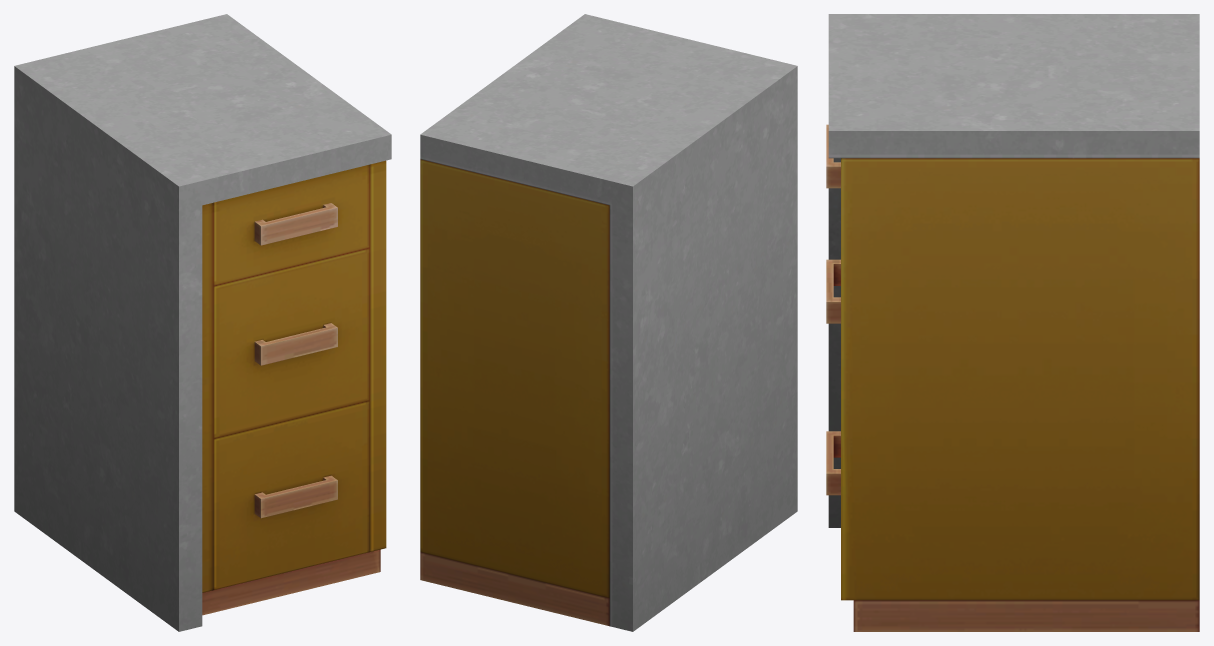
File: mueblePequeño.fbx
3 renders of one model, left to right at view 1: azimuth 30°, elevation 25°; view 2: azimuth 150°, elevation 25°; view 3: azimuth 270°, elevation 25°, orthographic. The views are drawn at different scales.
Visible parts, largest first — view 1: s4studio_mesh_1; view 2: s4studio_mesh_1; view 3: s4studio_mesh_1.
Boxes of the visible parts, x1,y1,x2,y2 form: s4studio_mesh_1: [14, 14, 391, 631]; s4studio_mesh_1: [420, 14, 797, 631]; s4studio_mesh_1: [826, 14, 1199, 631].
Size of the model in its own units: 50 by 100 by 67.53.
Materials: 2 (2 with a texture image).
